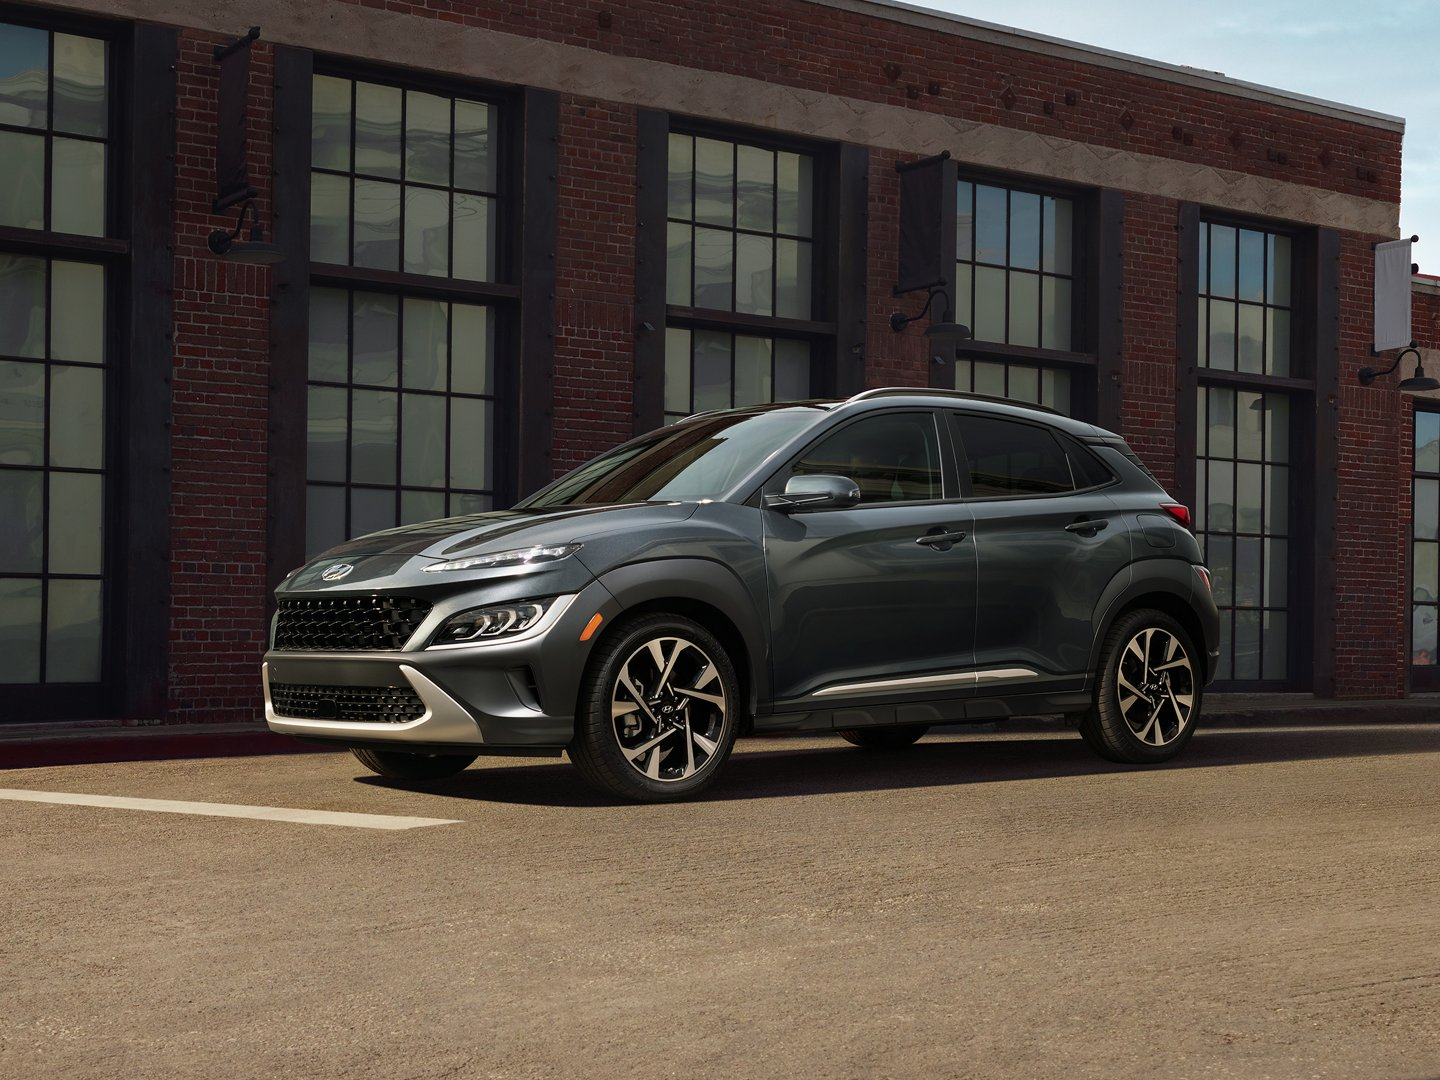car: (257, 386, 1222, 805)
